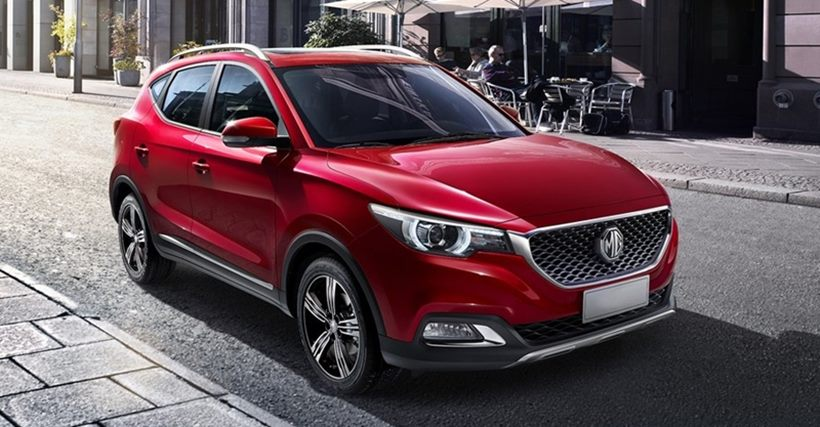pickup: (108, 40, 679, 394)
